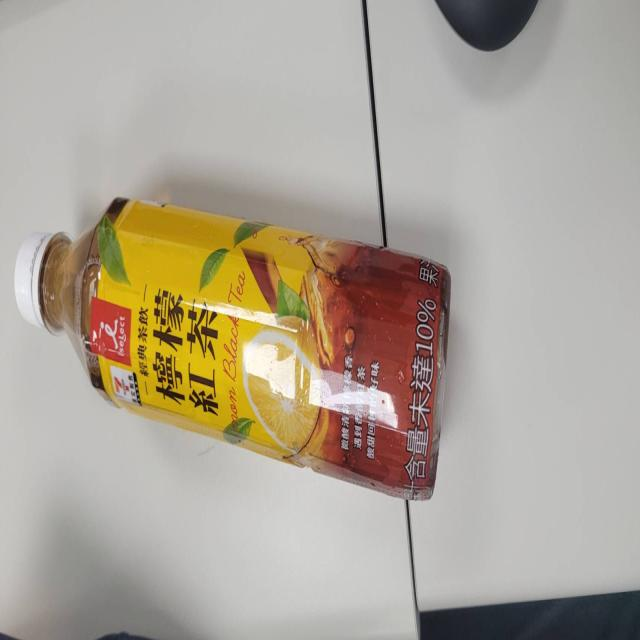PET bottle: (7, 179, 457, 505)
